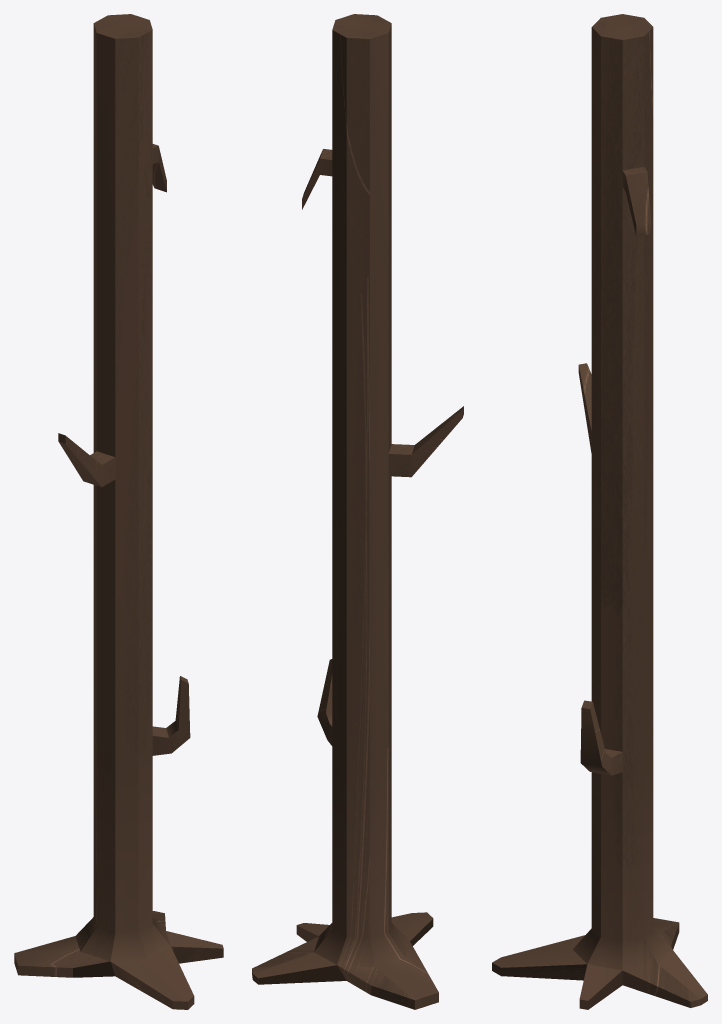
The model's file is tree02.fbx.
3 renders of one model, left to right at view 1: azimuth 30°, elevation 25°; view 2: azimuth 150°, elevation 25°; view 3: azimuth 270°, elevation 25°, orthographic.
Parts seen in each view (by area): view 1: tree02; view 2: tree02; view 3: tree02.
Part boxes in pixels (x1,y1,x2,y2): tree02: (14,14,223,1009); tree02: (252,14,463,1009); tree02: (492,14,707,1009).
Bounding box in the file's own units: 2.88 × 14.89 × 3.08.
